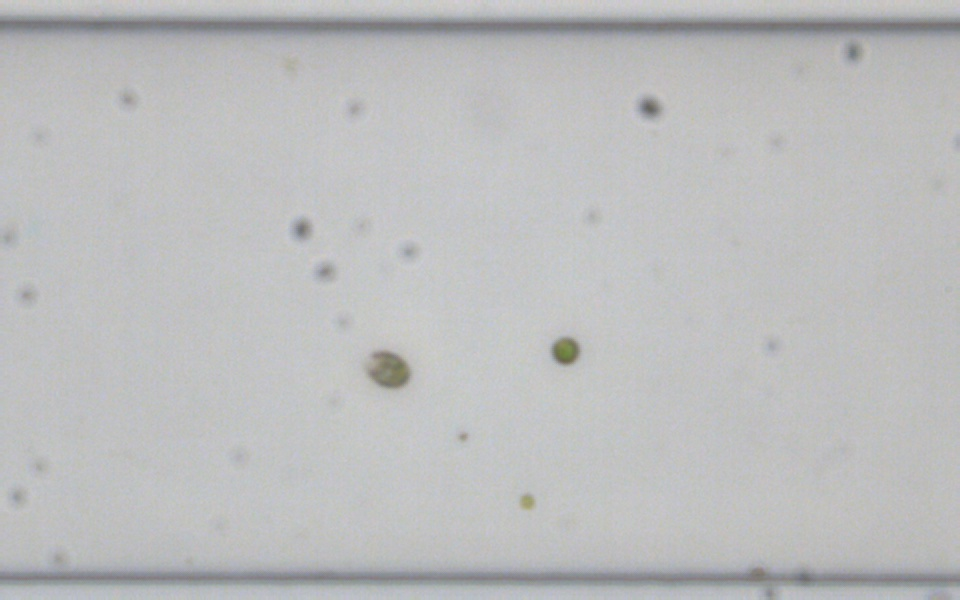Chlorella: (549, 334, 580, 365), (519, 494, 535, 510)
Platymonas: (363, 348, 413, 389)
